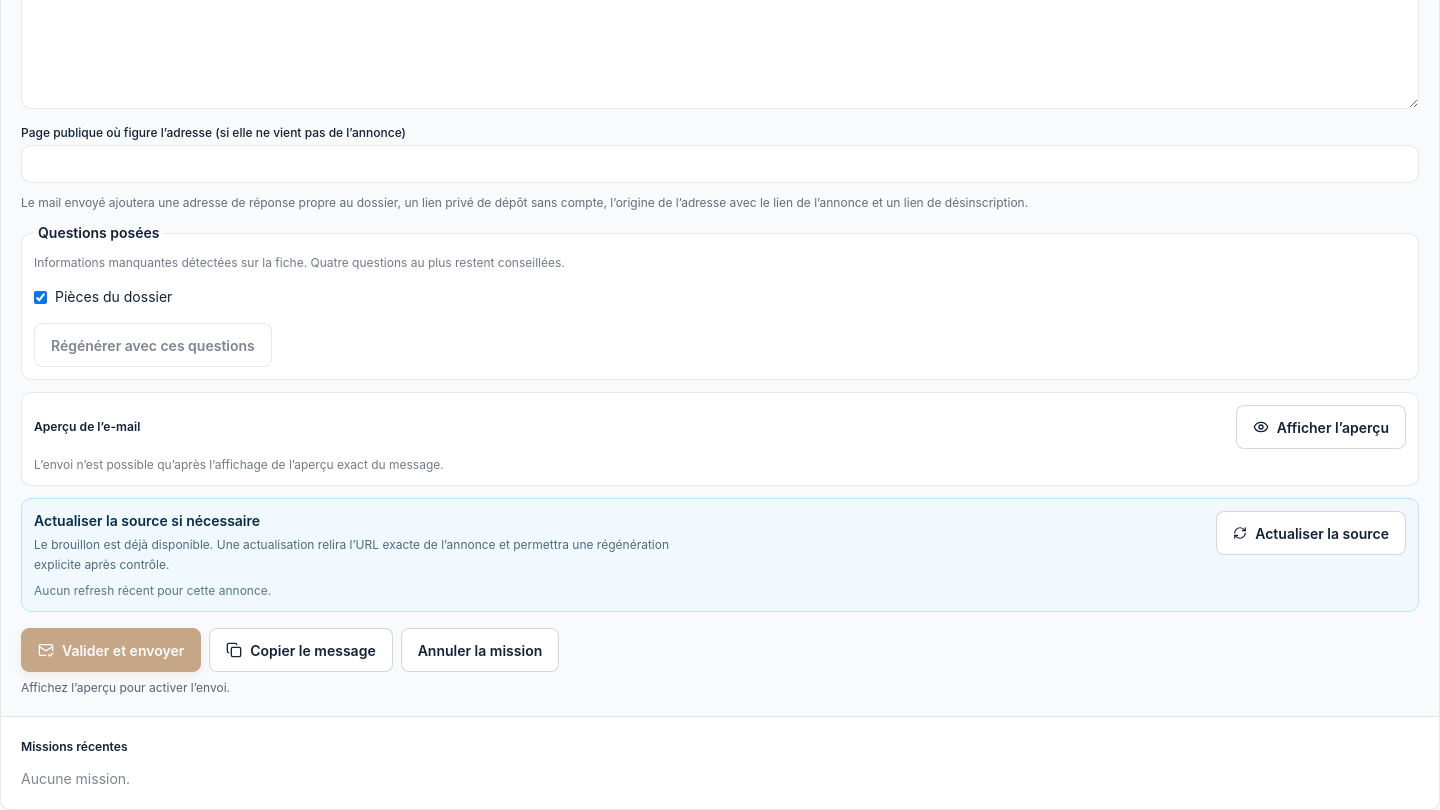
Test case: AdminInformationAgentMissionsPanel › queues a refresh for the exact sale and exposes its running status
This screenshot has width=1440, height=810.
(page scrolled)
expect the button "Valider et envoyer" is shown: met, box [21,628,201,672]
Click the button "Actualiser la source" at (1311, 533), box [1216,511,1406,555]
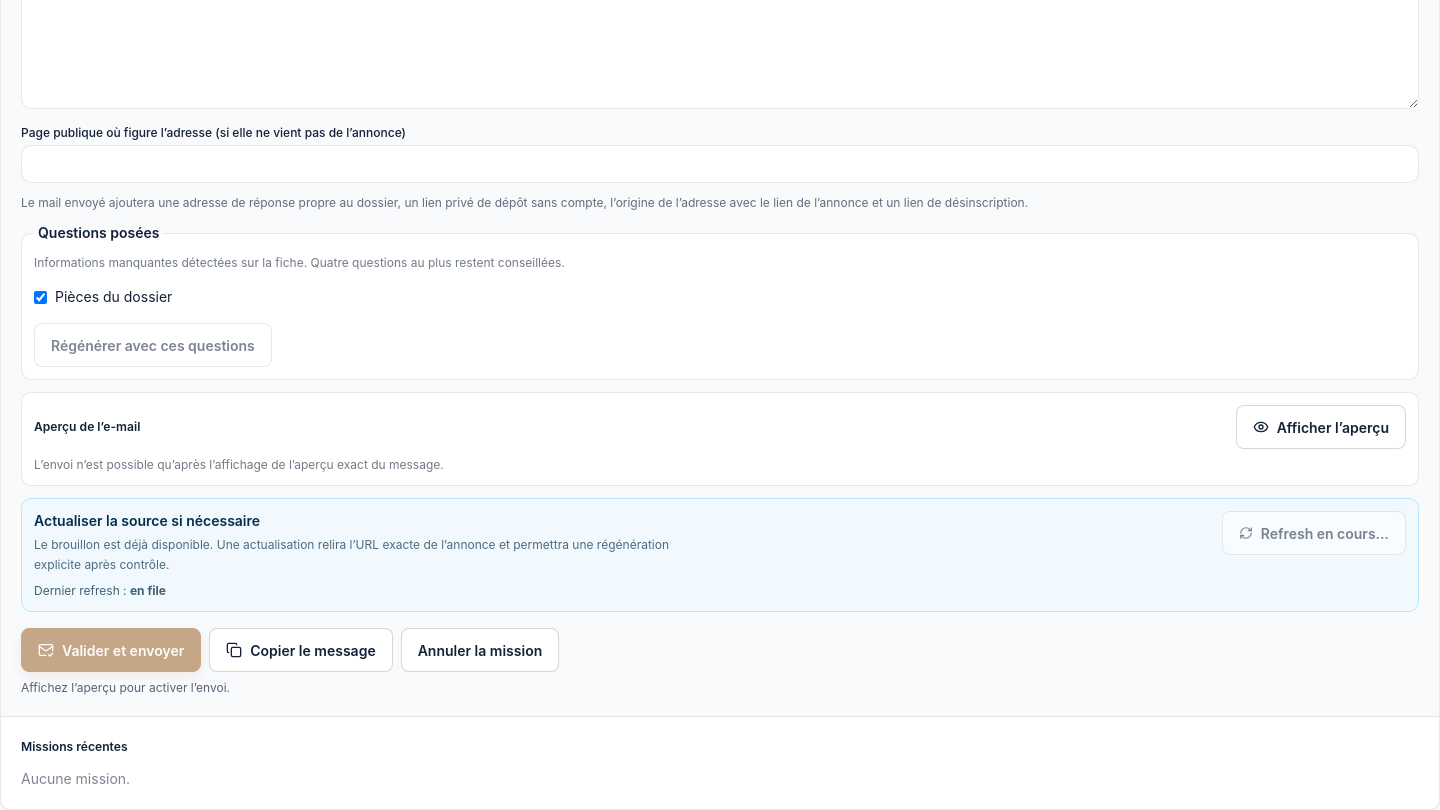
expect the text "en file" is shown: met, box [130,583,166,598]
expect the button "Refresh en cours…" is disabled: met, box [1222,511,1406,555]
